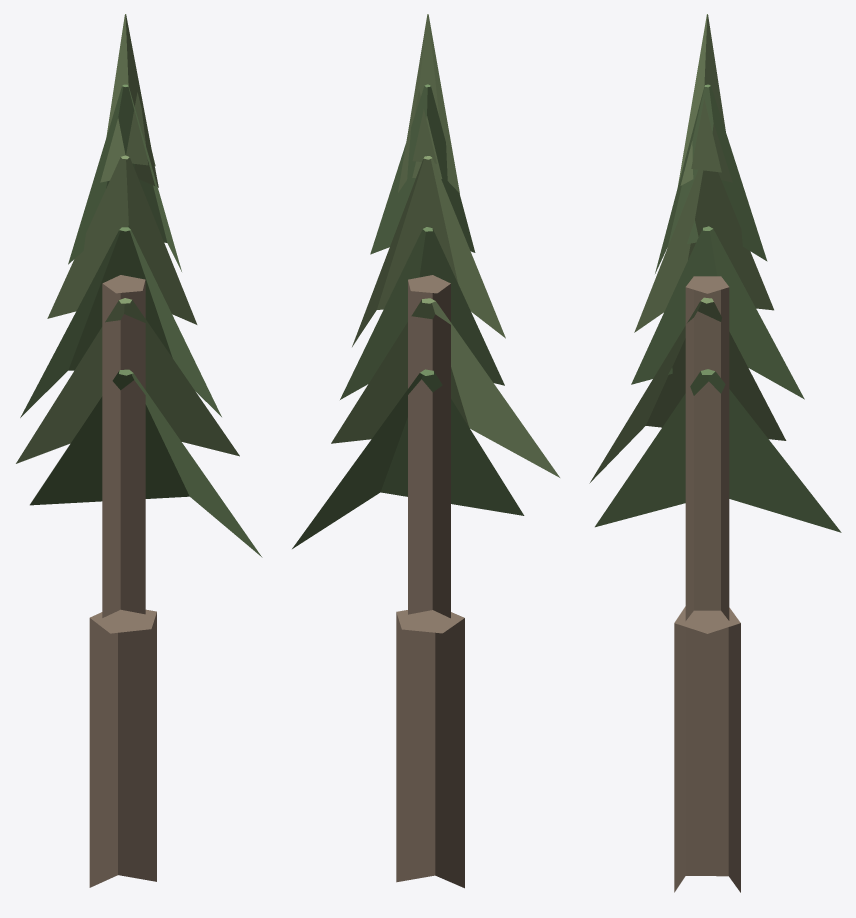
The model's file is tree.temp.larch__spring.glb.
3 views of the same model, side by side, from view 1: azimuth 30°, elevation 25°; view 2: azimuth 150°, elevation 25°; view 3: azimuth 270°, elevation 25° (orthographic).
Visible parts, largest first — view 1: tree.temp.larch__spring; view 2: tree.temp.larch__spring; view 3: tree.temp.larch__spring.
Boxes of the visible parts, x1,y1,x2,y2 form: tree.temp.larch__spring: (16,14,262,887); tree.temp.larch__spring: (292,14,559,888); tree.temp.larch__spring: (589,14,841,892).
Bounding box in the file's own units: 5.35 × 21.05 × 5.51.
